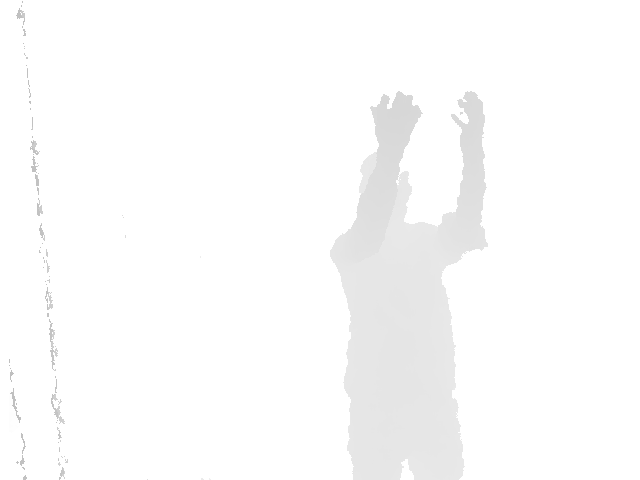hand: (371, 92, 423, 156), (450, 91, 486, 153)
head: (359, 159, 412, 229)
person: (329, 91, 489, 480)
